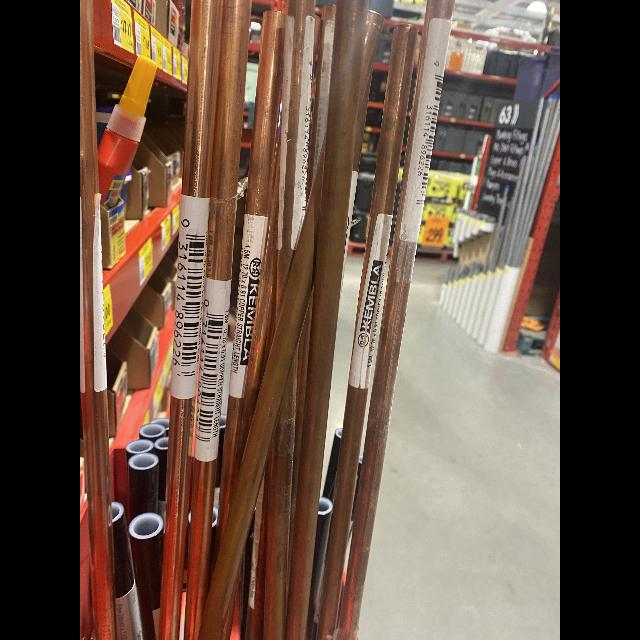Copper: (337, 1, 453, 640), (195, 132, 326, 640), (286, 0, 367, 639), (80, 0, 116, 640), (358, 24, 417, 316), (230, 156, 279, 497), (316, 387, 367, 638), (276, 0, 315, 327), (208, 0, 253, 279), (263, 344, 299, 640), (158, 395, 196, 640), (245, 9, 289, 216), (181, 0, 223, 196), (286, 295, 311, 614), (187, 457, 216, 640), (214, 395, 243, 566), (310, 3, 336, 191), (245, 461, 270, 639), (356, 10, 383, 124), (351, 67, 373, 170), (223, 581, 239, 639)
